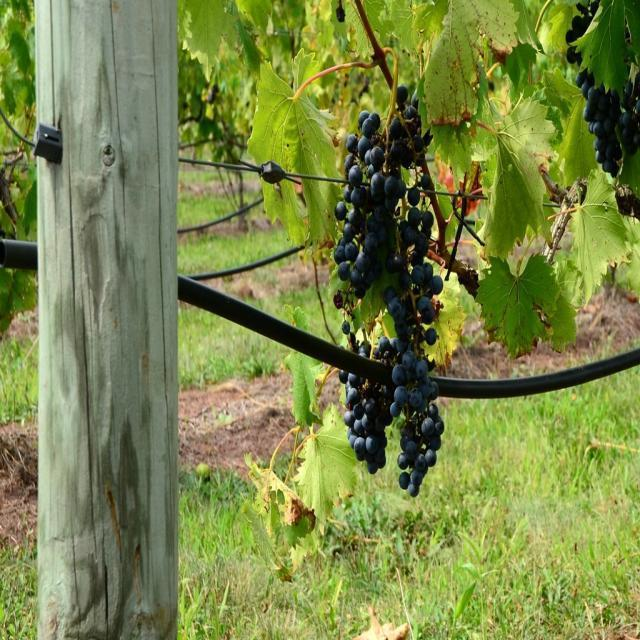Grape: (334, 83, 444, 491), (564, 0, 639, 173)
